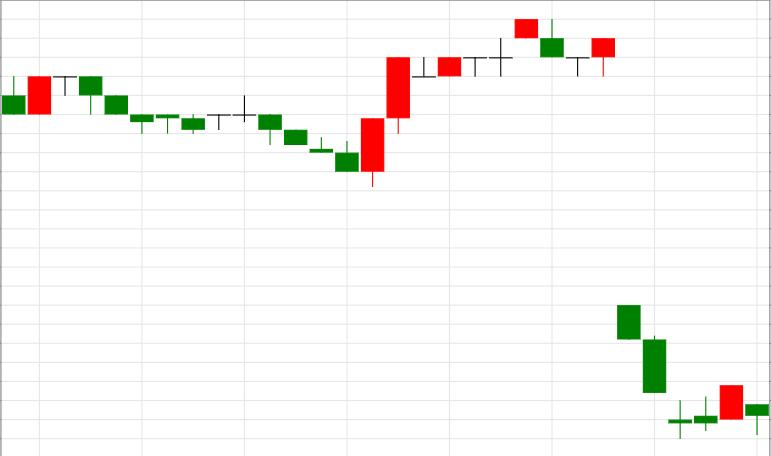bullish_engulfing_rise: (233, 96, 384, 188)
